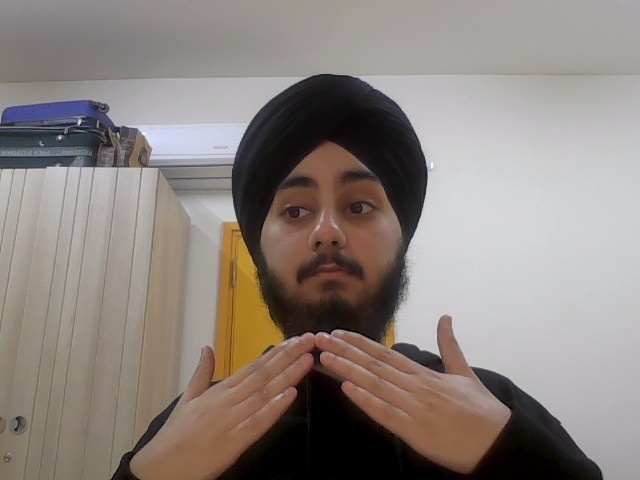Thanks: (134, 315, 523, 473)
